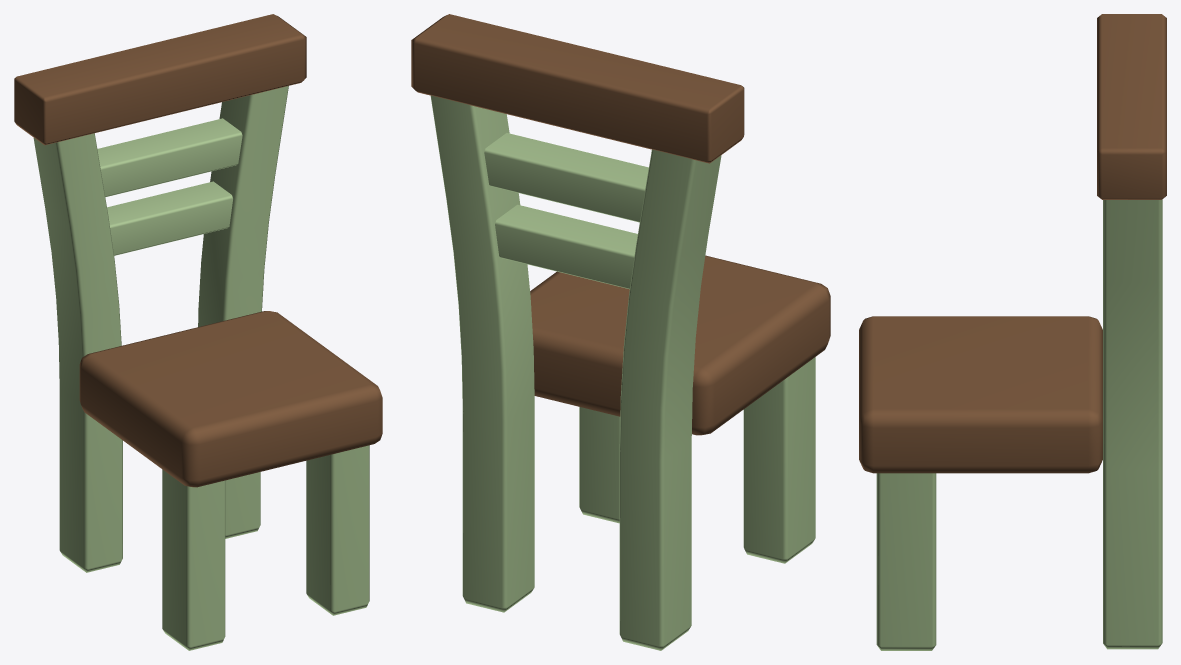
File: Chair_8.glb
3 views of the same model, side by side, from view 1: azimuth 30°, elevation 25°; view 2: azimuth 150°, elevation 25°; view 3: azimuth 270°, elevation 25° (orthographic). The views are drawn at different scales.
Parts seen in each view (by area): view 1: Chair_8; view 2: Chair_8; view 3: Chair_8.
Part boxes in pixels (bbox=[...]): Chair_8: bbox=[14, 14, 382, 650]; Chair_8: bbox=[411, 14, 830, 650]; Chair_8: bbox=[859, 14, 1166, 650].
Bounding box in the file's own units: 0.696 × 1.23 × 0.6567.
1 material, 1 textured.
